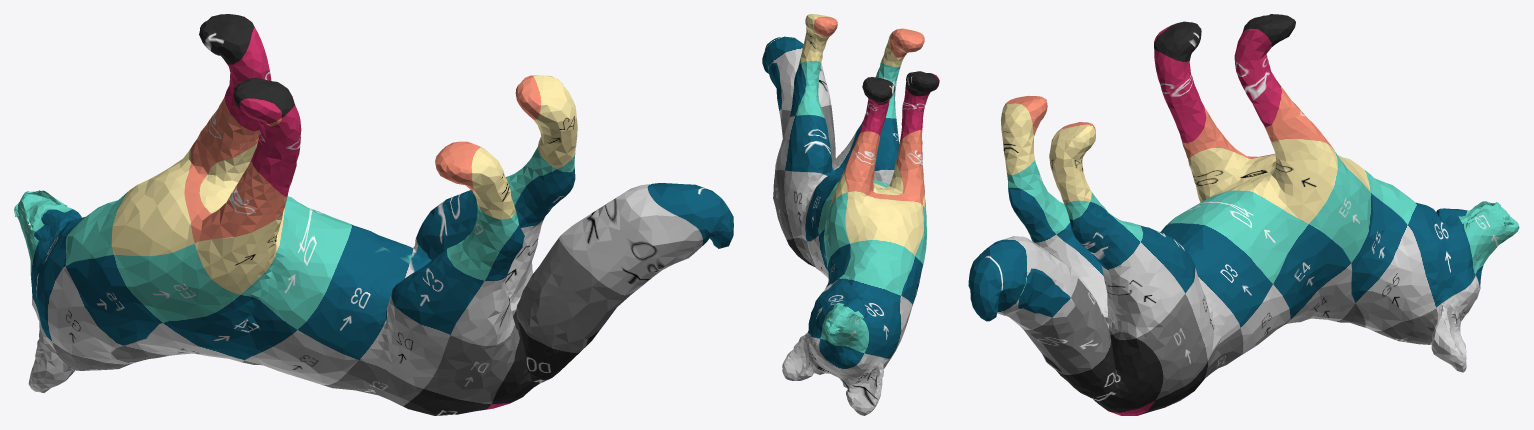
Rendered from horse_08-fox_01.obj.
3 renders of one model, left to right at view 1: azimuth 30°, elevation 25°; view 2: azimuth 150°, elevation 25°; view 3: azimuth 270°, elevation 25°, orthographic. The views are drawn at different scales.
Parts seen in each view (by area): view 1: horse_08-fox_01_export; view 2: horse_08-fox_01_export; view 3: horse_08-fox_01_export.
Part boxes in pixels (x1=…): horse_08-fox_01_export: x1=14, y1=14, x2=733, y2=415; horse_08-fox_01_export: x1=762, y1=14, x2=939, y2=415; horse_08-fox_01_export: x1=968, y1=14, x2=1519, y2=415.
Bounding box in the file's own units: 0.6995 × 0.6346 × 0.8544.
